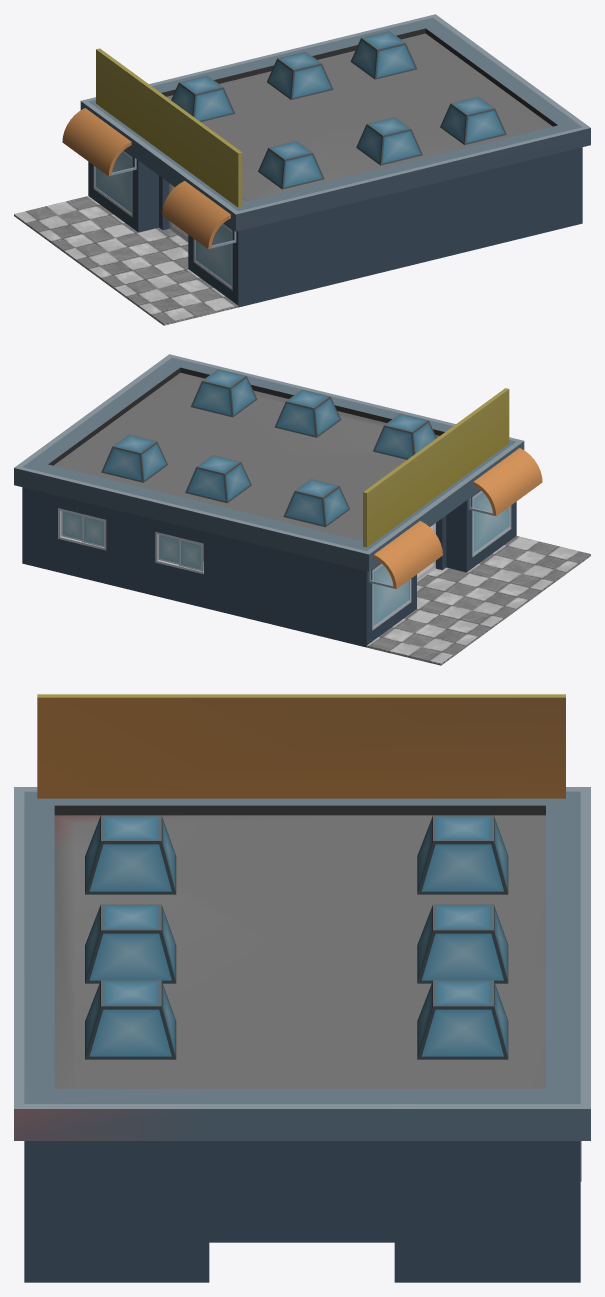
Rendered from Modisteria.FBX.
3 views of the same model, one above another, from view 1: azimuth 30°, elevation 25°; view 2: azimuth 150°, elevation 25°; view 3: azimuth 270°, elevation 25° (orthographic). The views are drawn at different scales.
Parts seen in each view (by area): view 1: Modisteria, Ventana; view 2: Modisteria, Ventana; view 3: Modisteria.
Part boxes in pixels (x1,y1,x2,y2): Modisteria: (14,14,590,325); Ventana: (93,150,232,290); Modisteria: (14,354,590,665); Ventana: (58,490,511,630); Modisteria: (14,694,590,1282).
Size of the model in its own units: 1732 by 1098 by 587.
